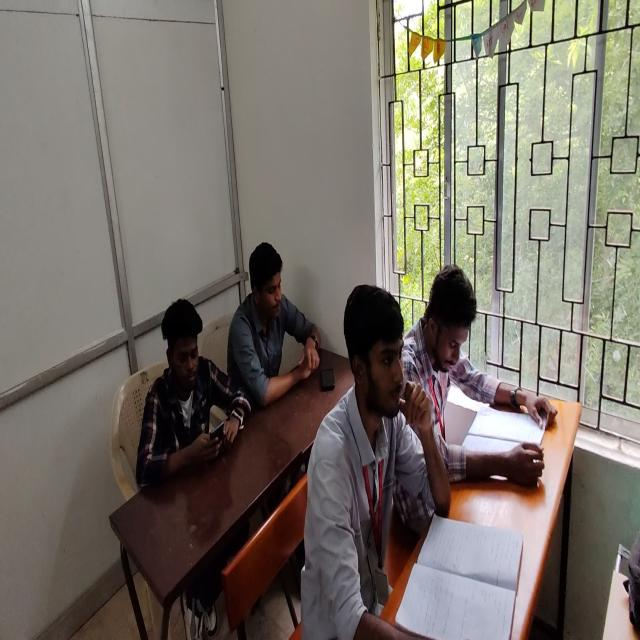reading: (307, 284, 485, 638), (403, 262, 555, 498)
using_mobile: (136, 298, 254, 492), (226, 239, 322, 416)
